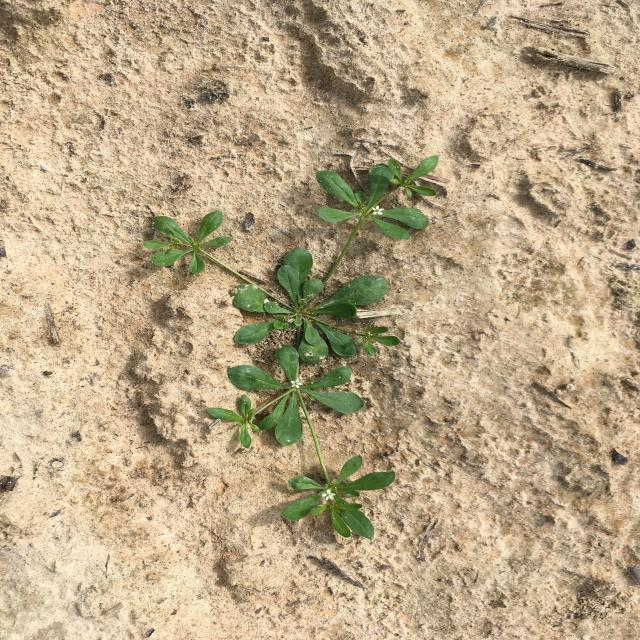Carpetweed: (143, 154, 440, 540)
